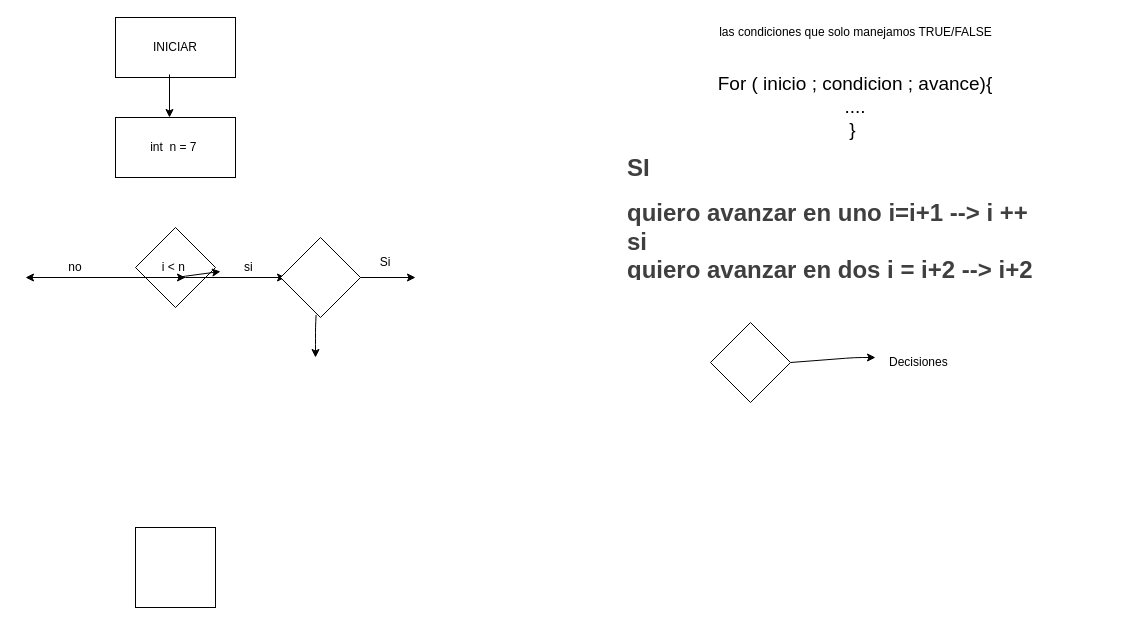
Image size: 1133x625. Some labels were removed from this diagram. The shapes that lost their labels are listed below. From the top down, each one's centre as x and y in pixels, then its label:
At pixel 320 277: "n % 2 == 0".
At pixel 175 567: "FIN".
